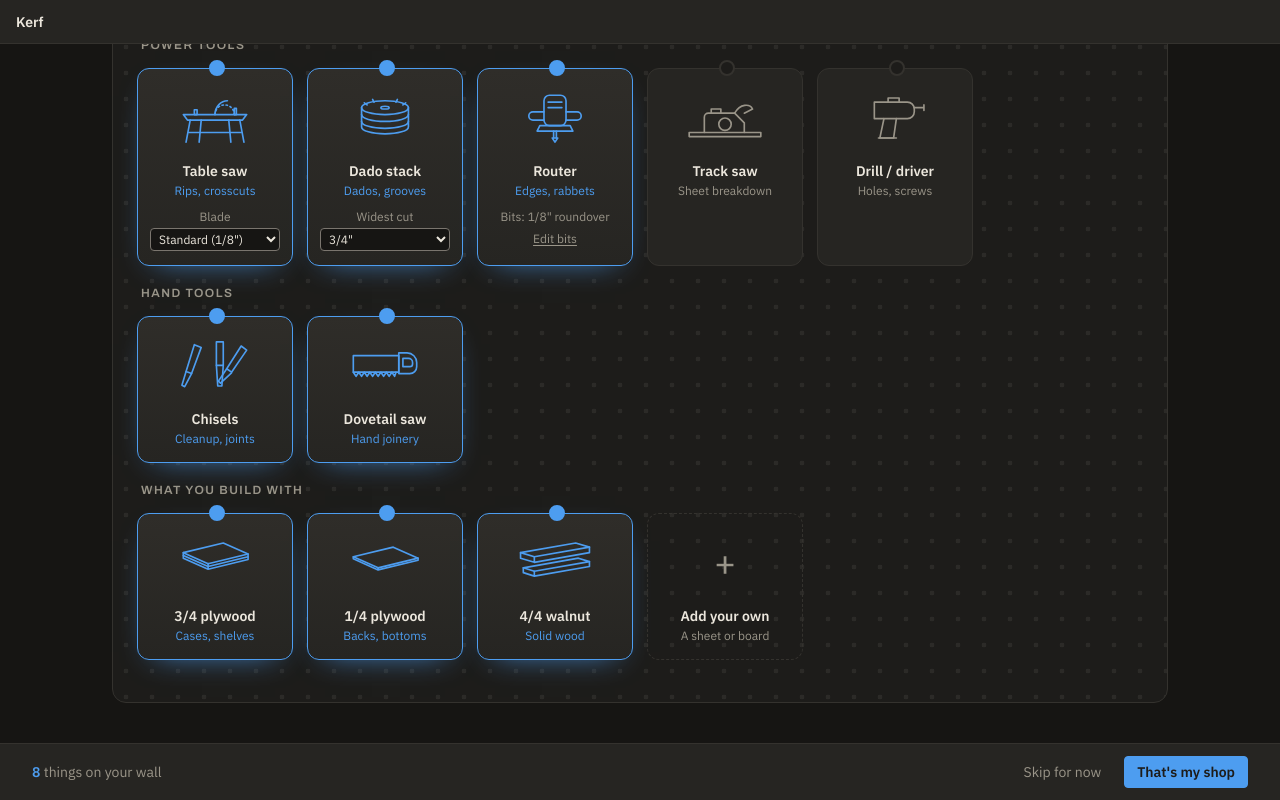
Test case: <YourShop> › refuses a wood of your own with no name or no thickness
The width and height of the screenshot is (1280, 800).
(page scrolled)
Click the button "+ Add your own A sheet or board" at (725, 586), box x1=648 y1=514 x2=802 y2=659
(page scrolled)
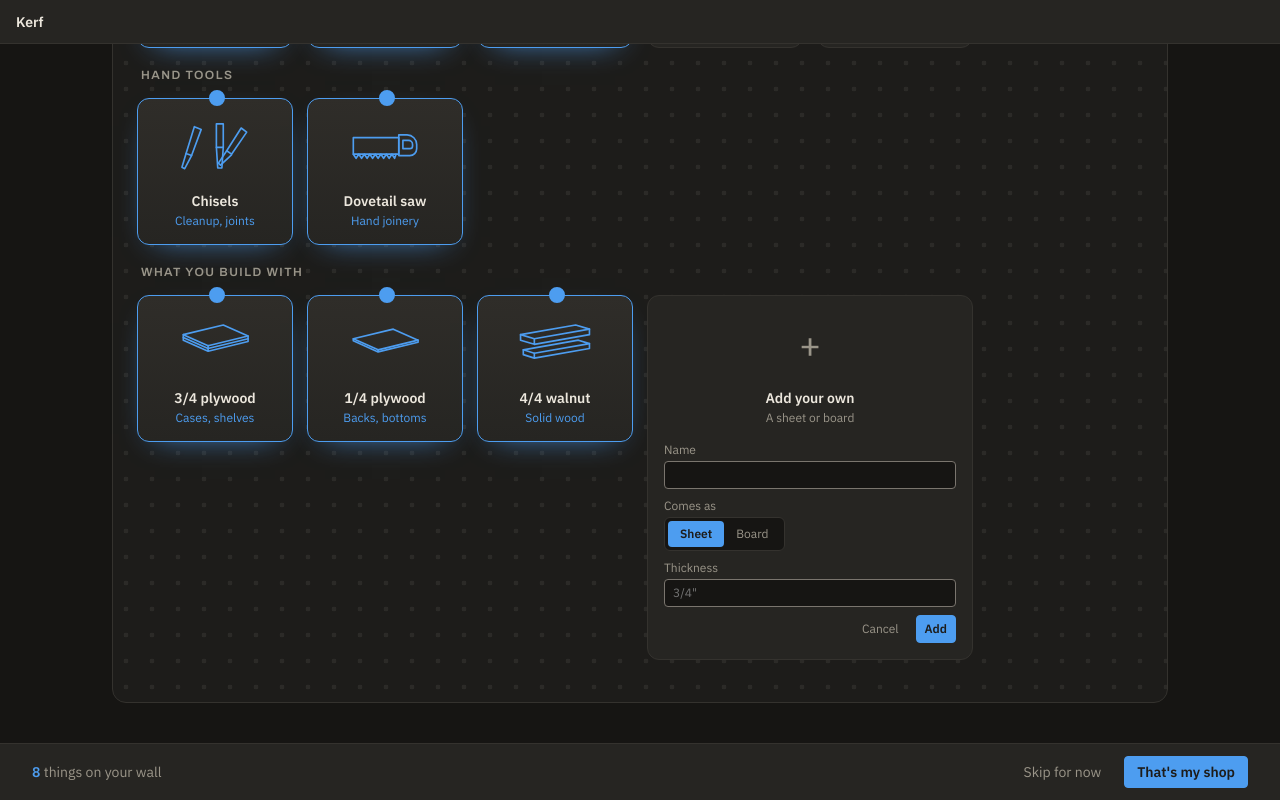
Click the button "Add" at (936, 629), box x1=916 y1=615 x2=956 y2=643
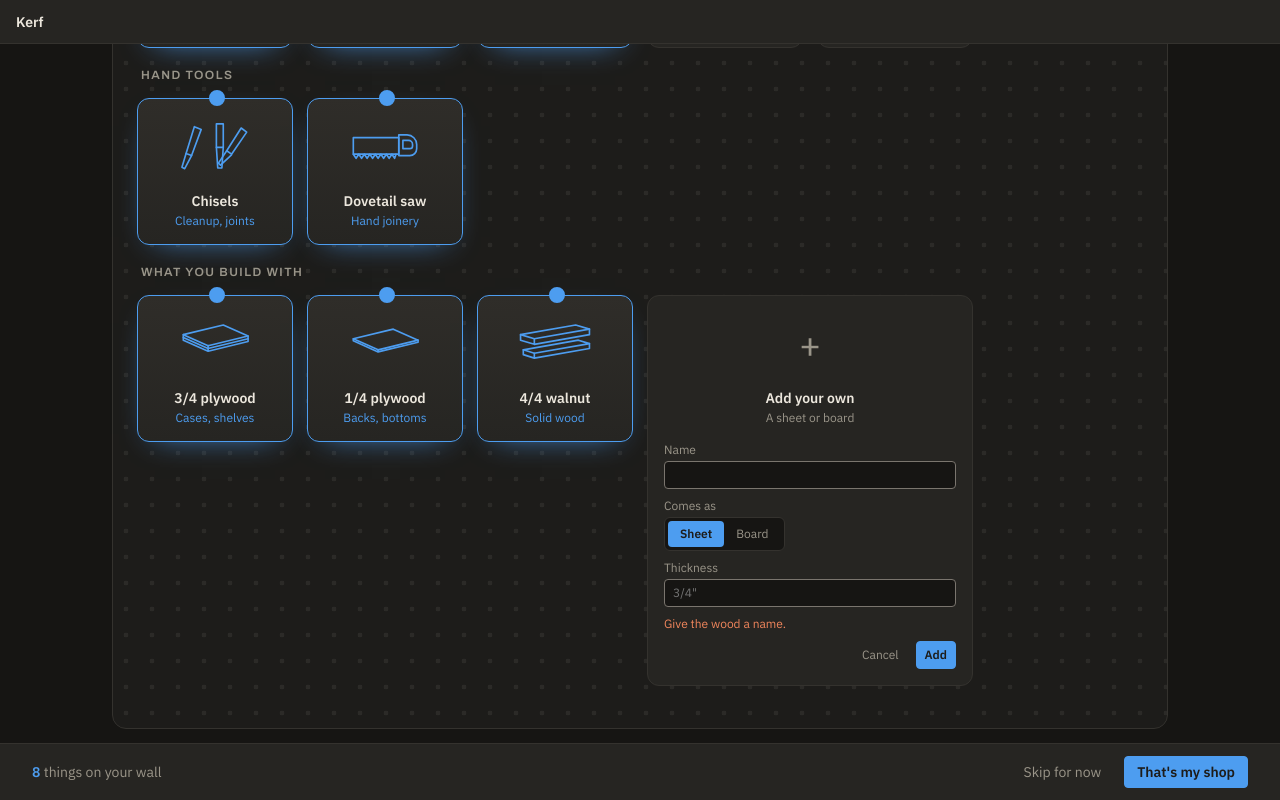
Check: the text "Give the wood a name." is shown, box x1=664 y1=616 x2=786 y2=631
Type "Baltic birch" into the field labelled "Name" at (810, 475), box x1=664 y1=461 x2=956 y2=489
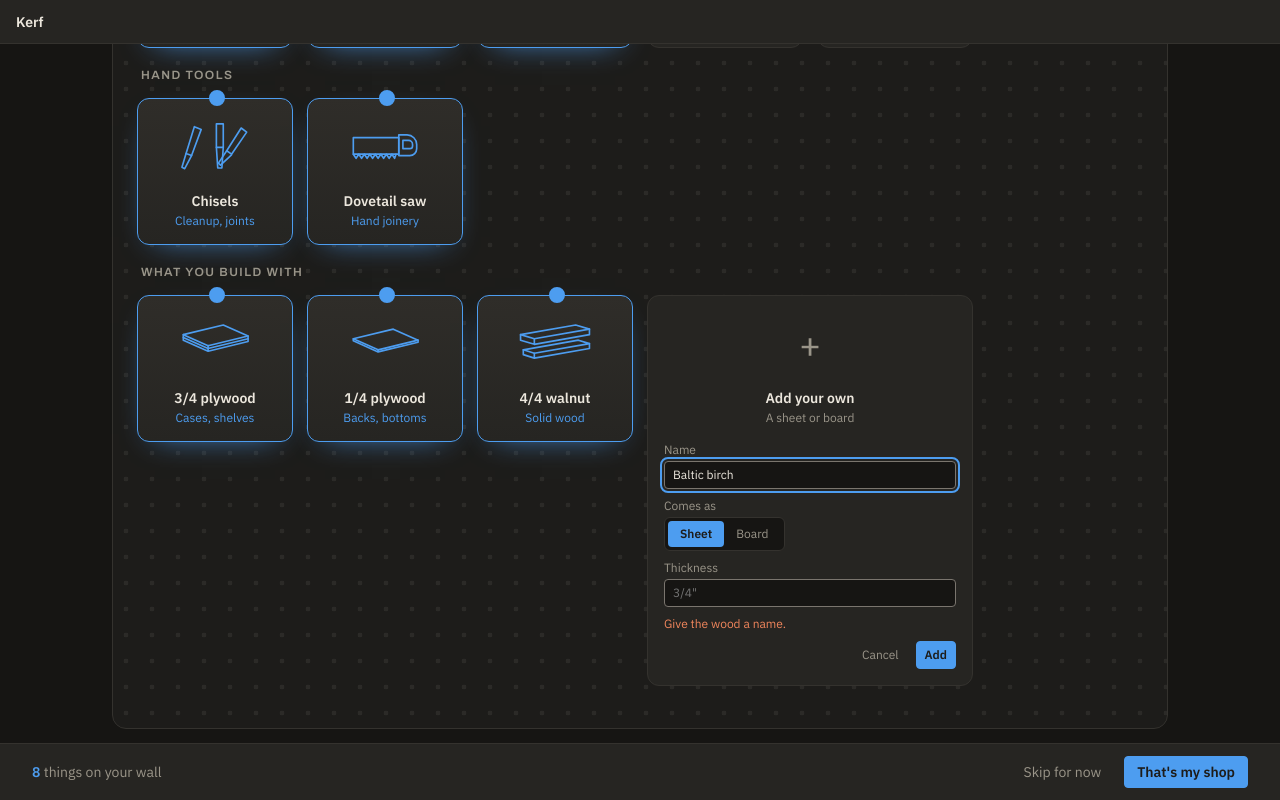
Type "0\"" into the field labelled "Thickness" at (810, 593), box x1=664 y1=579 x2=956 y2=607
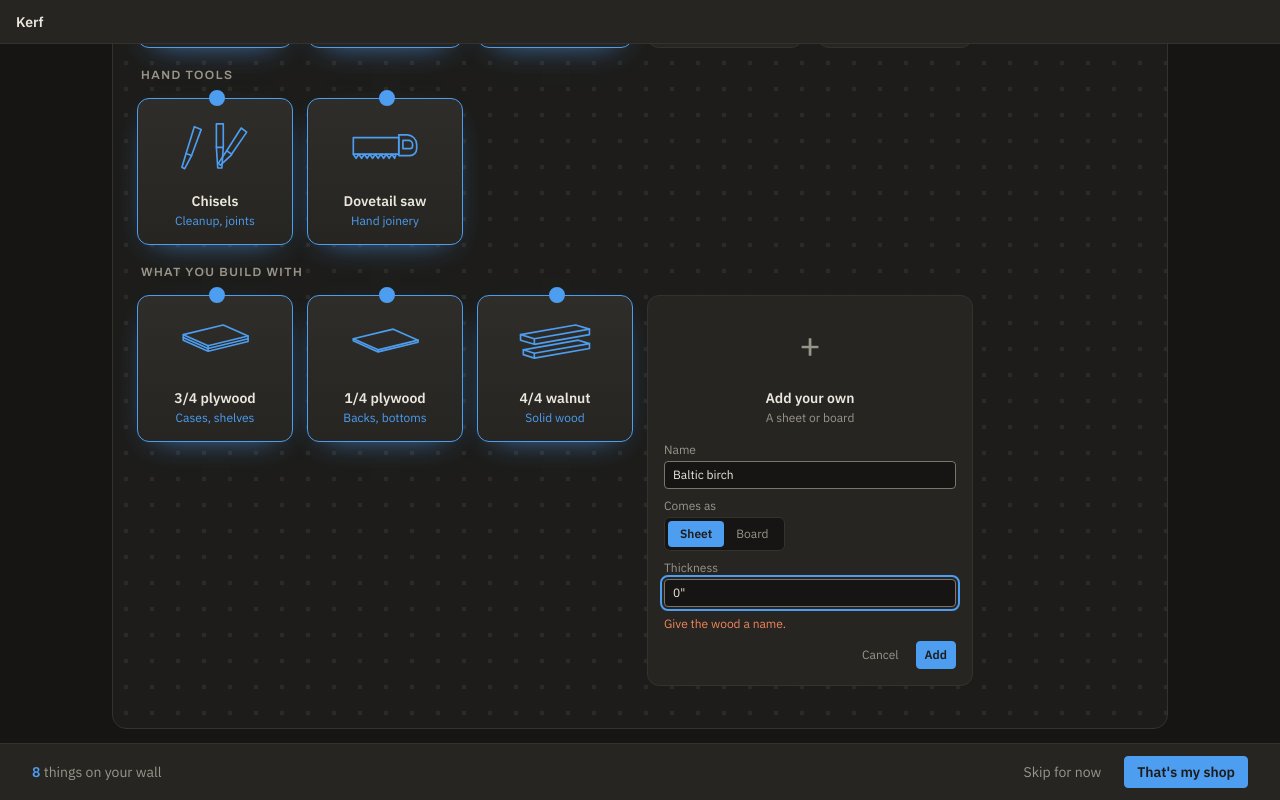
Click the button "Add" at (936, 655), box x1=916 y1=641 x2=956 y2=669
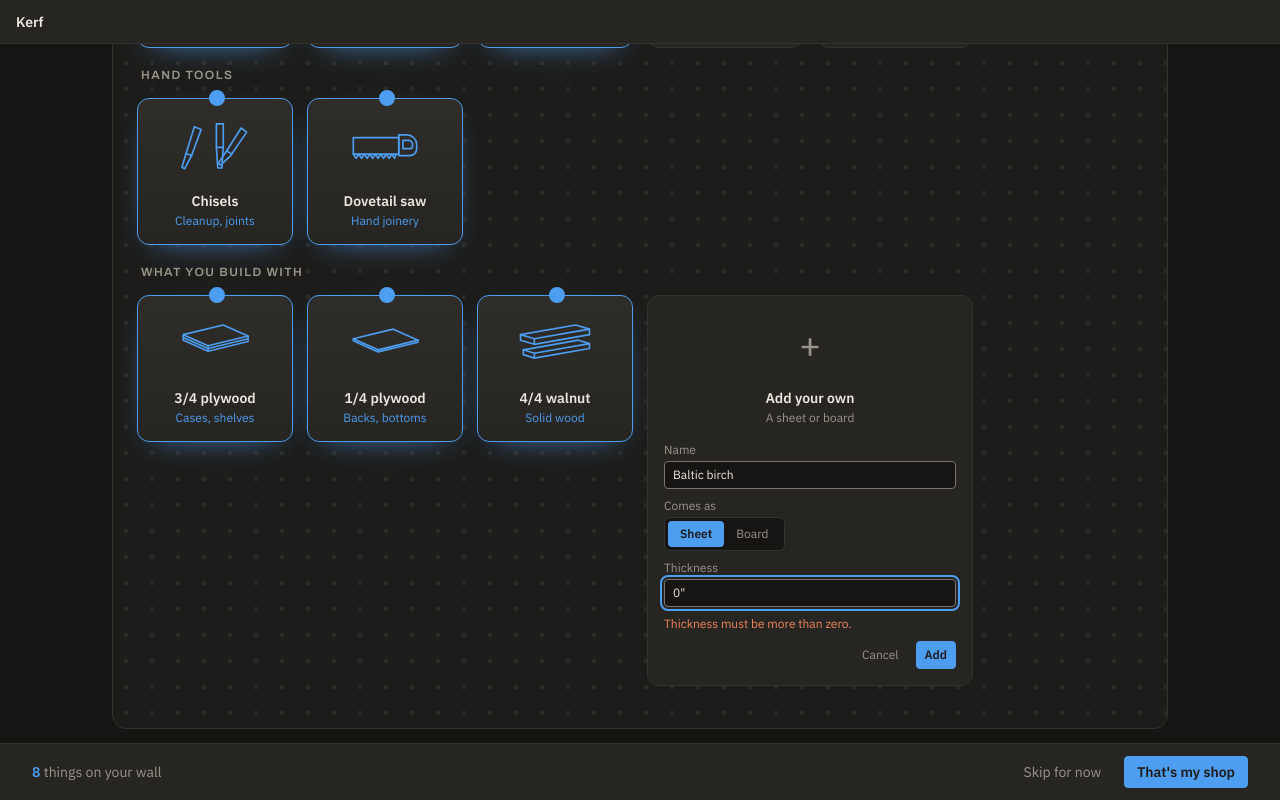
Check: the text "Thickness must be more than zero." is shown, box x1=664 y1=616 x2=852 y2=631
